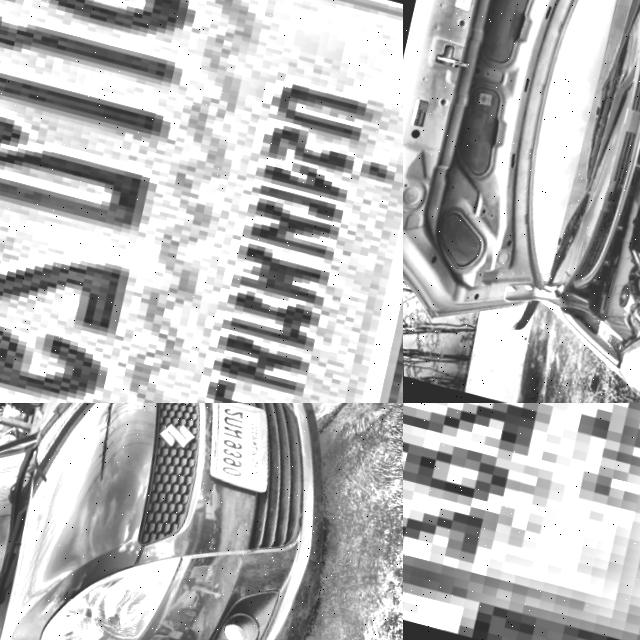license-plate: (0, 0, 403, 403), (403, 403, 640, 640), (190, 403, 286, 497)
